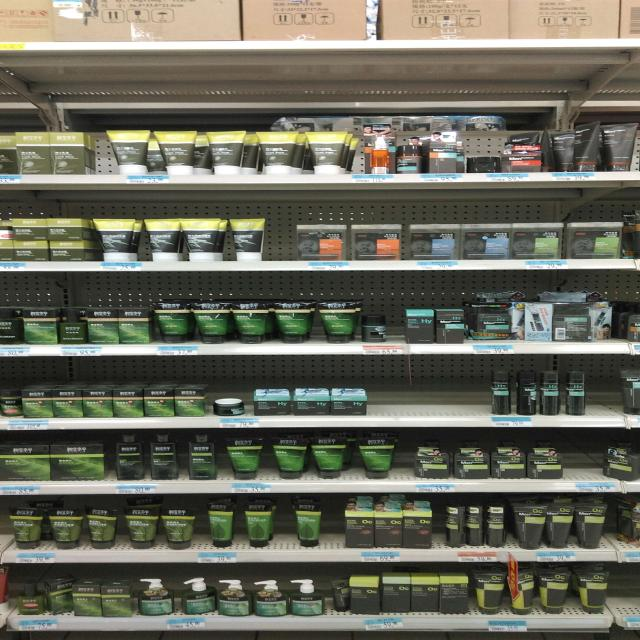empty: (355, 354, 498, 425), (580, 353, 631, 419), (262, 218, 305, 264)
